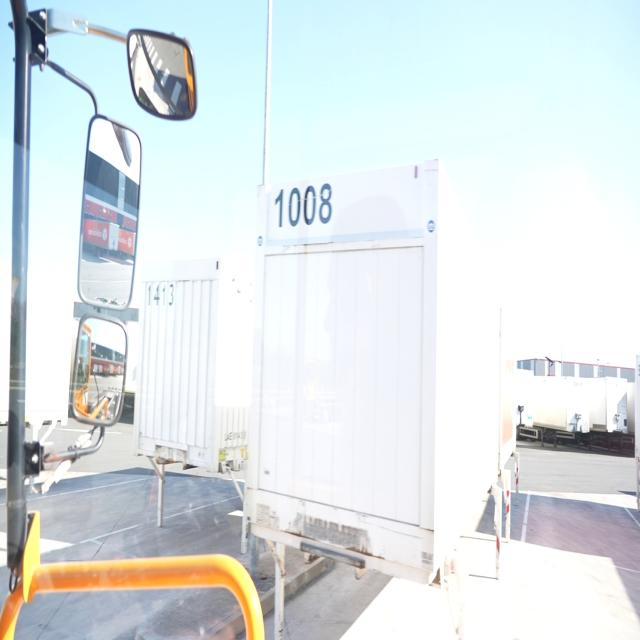Code: (268, 179, 330, 233), (144, 278, 178, 314)
